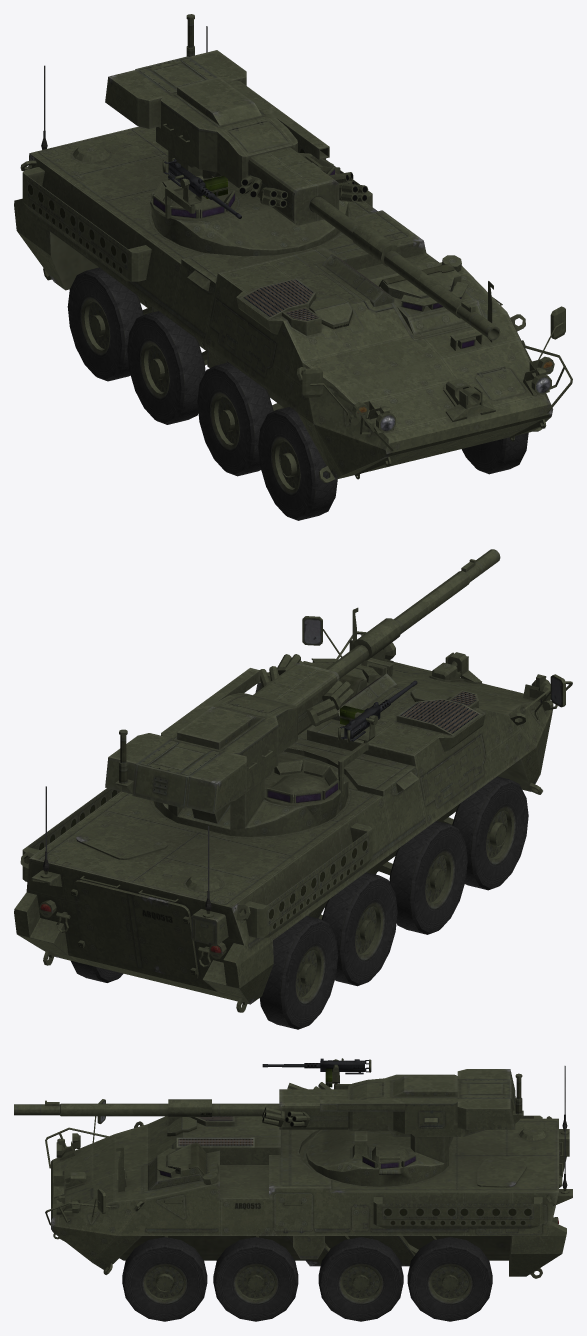
Rendered from Stryker.glb.
3 renders of one model, top to bottom at view 1: azimuth 30°, elevation 25°; view 2: azimuth 150°, elevation 25°; view 3: azimuth 270°, elevation 25°, orthographic. The views are drawn at different scales.
Parts seen in each view (by area): view 1: Stryker, Gun, Turret, Right_Wheel_3, Right_Wheel_2, Right_Wheel_4, Right_Wheel_1, Left_Wheel_1, Machine_Gun; view 2: Stryker, Gun, Turret, Right_Wheel_2, Right_Wheel_4, Right_Wheel_1, Right_Wheel_3, Machine_Gun, Left_Wheel_4; view 3: Stryker, Gun, Turret, Left_Wheel_2, Left_Wheel_3, Left_Wheel_1, Left_Wheel_4, Machine_Gun.
Boxes of the visible parts, x1=… form: Stryker: x1=14, y1=26, x2=572, y2=482; Gun: x1=105, y1=14, x2=500, y2=340; Turret: x1=150, y1=151, x2=348, y2=256; Right_Wheel_3: x1=127, y1=311, x2=205, y2=424; Right_Wheel_2: x1=197, y1=362, x2=273, y2=476; Right_Wheel_4: x1=67, y1=267, x2=143, y2=381; Right_Wheel_1: x1=258, y1=407, x2=337, y2=520; Left_Wheel_1: x1=461, y1=432, x2=528, y2=474; Machine_Gun: x1=162, y1=158, x2=241, y2=218; Stryker: x1=14, y1=607, x2=572, y2=1012; Gun: x1=105, y1=549, x2=500, y2=813; Turret: x1=153, y1=742, x2=368, y2=836; Right_Wheel_2: x1=389, y1=821, x2=467, y2=934; Right_Wheel_4: x1=259, y1=916, x2=338, y2=1029; Right_Wheel_1: x1=452, y1=776, x2=528, y2=890; Right_Wheel_3: x1=321, y1=872, x2=397, y2=986; Machine_Gun: x1=338, y1=680, x2=417, y2=742; Left_Wheel_4: x1=71, y1=961, x2=123, y2=982; Stryker: x1=45, y1=1066, x2=572, y2=1278; Gun: x1=14, y1=1069, x2=523, y2=1136; Turret: x1=306, y1=1084, x2=453, y2=1186; Left_Wheel_2: x1=213, y1=1237, x2=298, y2=1321; Left_Wheel_3: x1=318, y1=1237, x2=403, y2=1321; Left_Wheel_1: x1=122, y1=1237, x2=207, y2=1321; Left_Wheel_4: x1=407, y1=1237, x2=492, y2=1321; Machine_Gun: x1=262, y1=1058, x2=371, y2=1087.
Size of the model in its own units: 3.12 by 3.33 by 7.66.
1 material, 1 textured.
